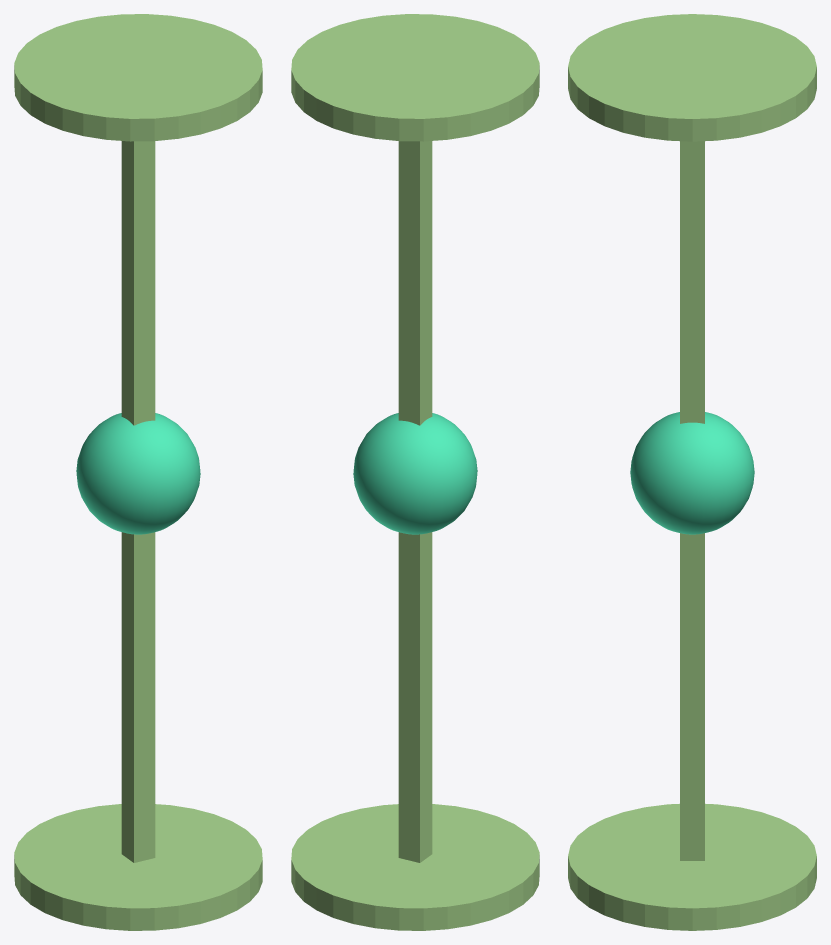
File: configurator.gltf
3 renders of one model, left to right at view 1: azimuth 30°, elevation 25°; view 2: azimuth 150°, elevation 25°; view 3: azimuth 270°, elevation 25°, orthographic.
Visible parts, largest first — view 1: Cylinder, Cylinder.001, path, slider; view 2: Cylinder, Cylinder.001, path, slider; view 3: Cylinder, Cylinder.001, path, slider.
Boxes of the visible parts, bbox=[...] form: Cylinder: bbox=[14, 14, 262, 141]; Cylinder.001: bbox=[14, 804, 262, 930]; path: bbox=[121, 141, 155, 862]; slider: bbox=[76, 413, 200, 534]; Cylinder: bbox=[291, 14, 539, 141]; Cylinder.001: bbox=[291, 804, 539, 930]; path: bbox=[398, 141, 432, 862]; slider: bbox=[353, 413, 477, 534]; Cylinder: bbox=[568, 14, 816, 141]; Cylinder.001: bbox=[568, 803, 816, 930]; path: bbox=[680, 141, 704, 860]; slider: bbox=[630, 412, 754, 534].
Size of the model in its own units: 1 by 3.6 by 1.
